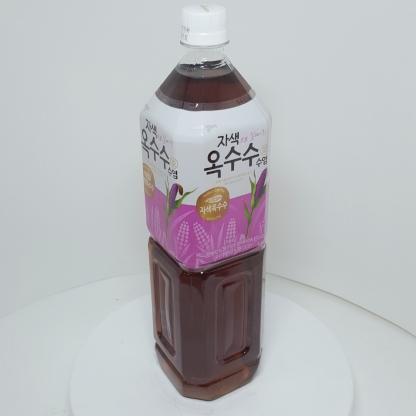----------1-5L: (140, 4, 272, 401)
